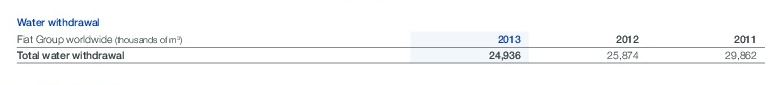table: (0, 0, 778, 85)
